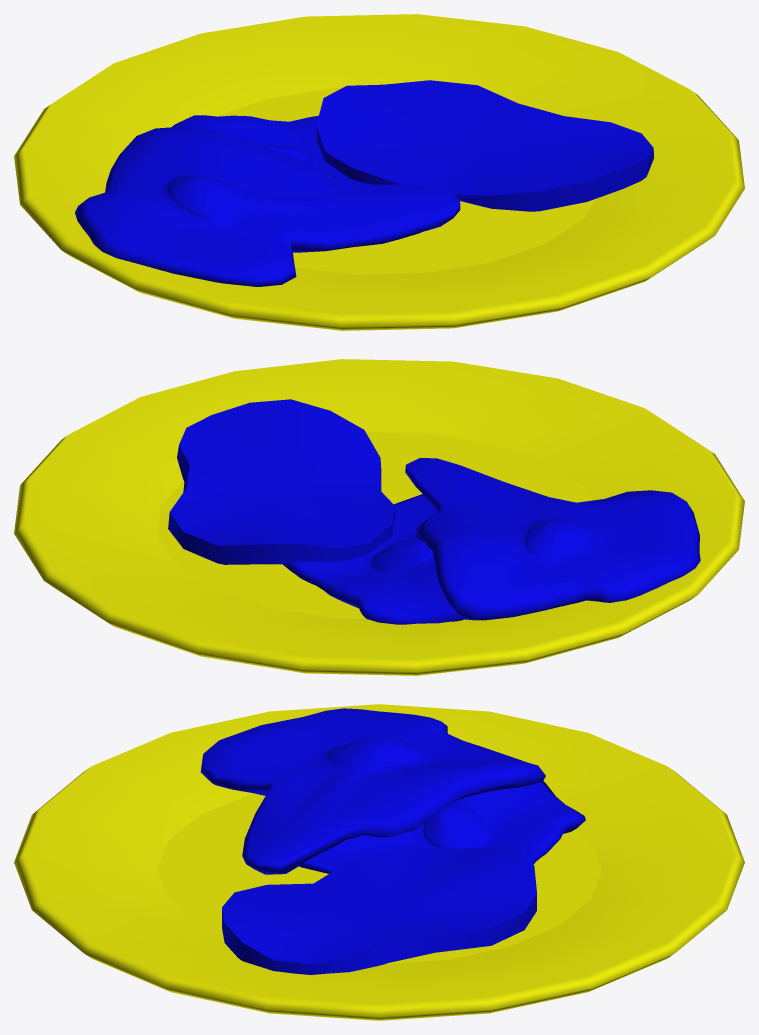
File: KitchenHam1.fbx
3 renders of one model, top to bottom at view 1: azimuth 30°, elevation 25°; view 2: azimuth 150°, elevation 25°; view 3: azimuth 270°, elevation 25°, orthographic.
Visible parts, largest first — view 1: Ham1; view 2: Ham1; view 3: Ham1.
Boxes of the visible parts, <box> form: Ham1: <box>14,14,744,330</box>; Ham1: <box>14,359,744,675</box>; Ham1: <box>14,704,744,1020</box>.
Size of the model in its own units: 38.18 by 4.43 by 38.18.
